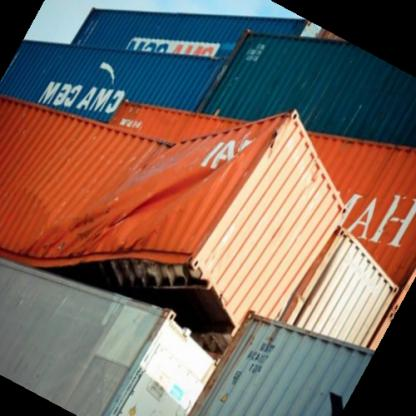Damage: (22, 137, 268, 307)
